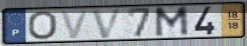4: (192, 5, 217, 37)
7: (127, 6, 152, 39)
M: (153, 5, 191, 39)
O: (27, 10, 60, 41)
V: (90, 7, 125, 40), (59, 9, 91, 40)
